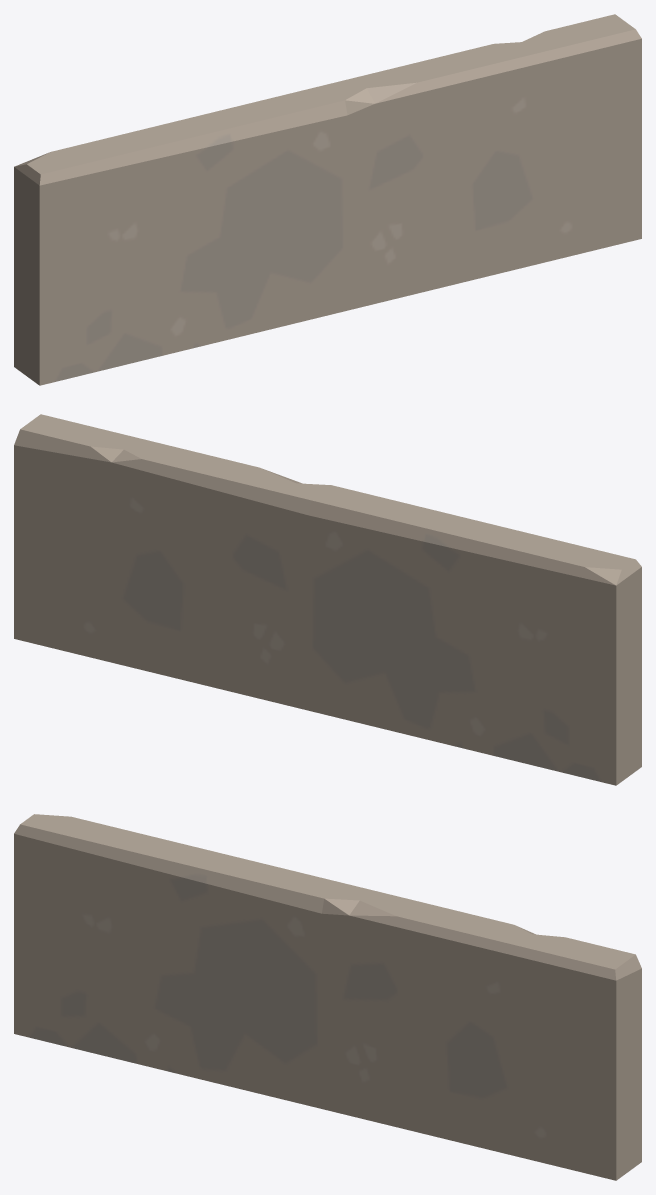
The model's file is SM_Bld_Village_Wall_02.fbx.
The picture shows the model from 3 angles, top to bottom: view 1: azimuth 30°, elevation 25°; view 2: azimuth 150°, elevation 25°; view 3: azimuth 330°, elevation 25°; orthographic projection.
Parts seen in each view (by area): view 1: SM_Bld_Village_Wall_02; view 2: SM_Bld_Village_Wall_02; view 3: SM_Bld_Village_Wall_02.
Part boxes in pixels (x1,y1,x2,y2): SM_Bld_Village_Wall_02: (14, 14, 641, 385); SM_Bld_Village_Wall_02: (14, 414, 641, 785); SM_Bld_Village_Wall_02: (14, 814, 641, 1180).
Size of the model in its own units: 484 by 160 by 35.83.
